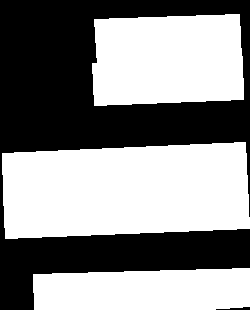parkingspot: (3, 182, 249, 238), (2, 142, 247, 196), (33, 268, 250, 310), (94, 14, 241, 65), (92, 56, 243, 105)
